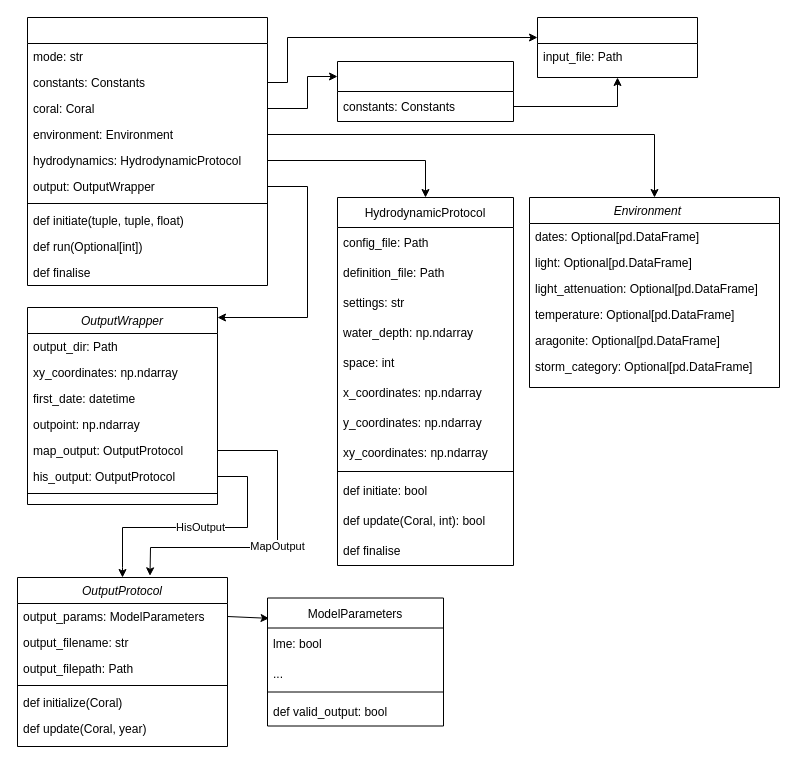
This 797x764 diagram has some shape labels left out. Here are the shapes that lost their labels. From the top down, the box of each, then its label:
(536, 16, 698, 78): Constants
(336, 60, 514, 122): Coral
(26, 16, 268, 286): Simulation
